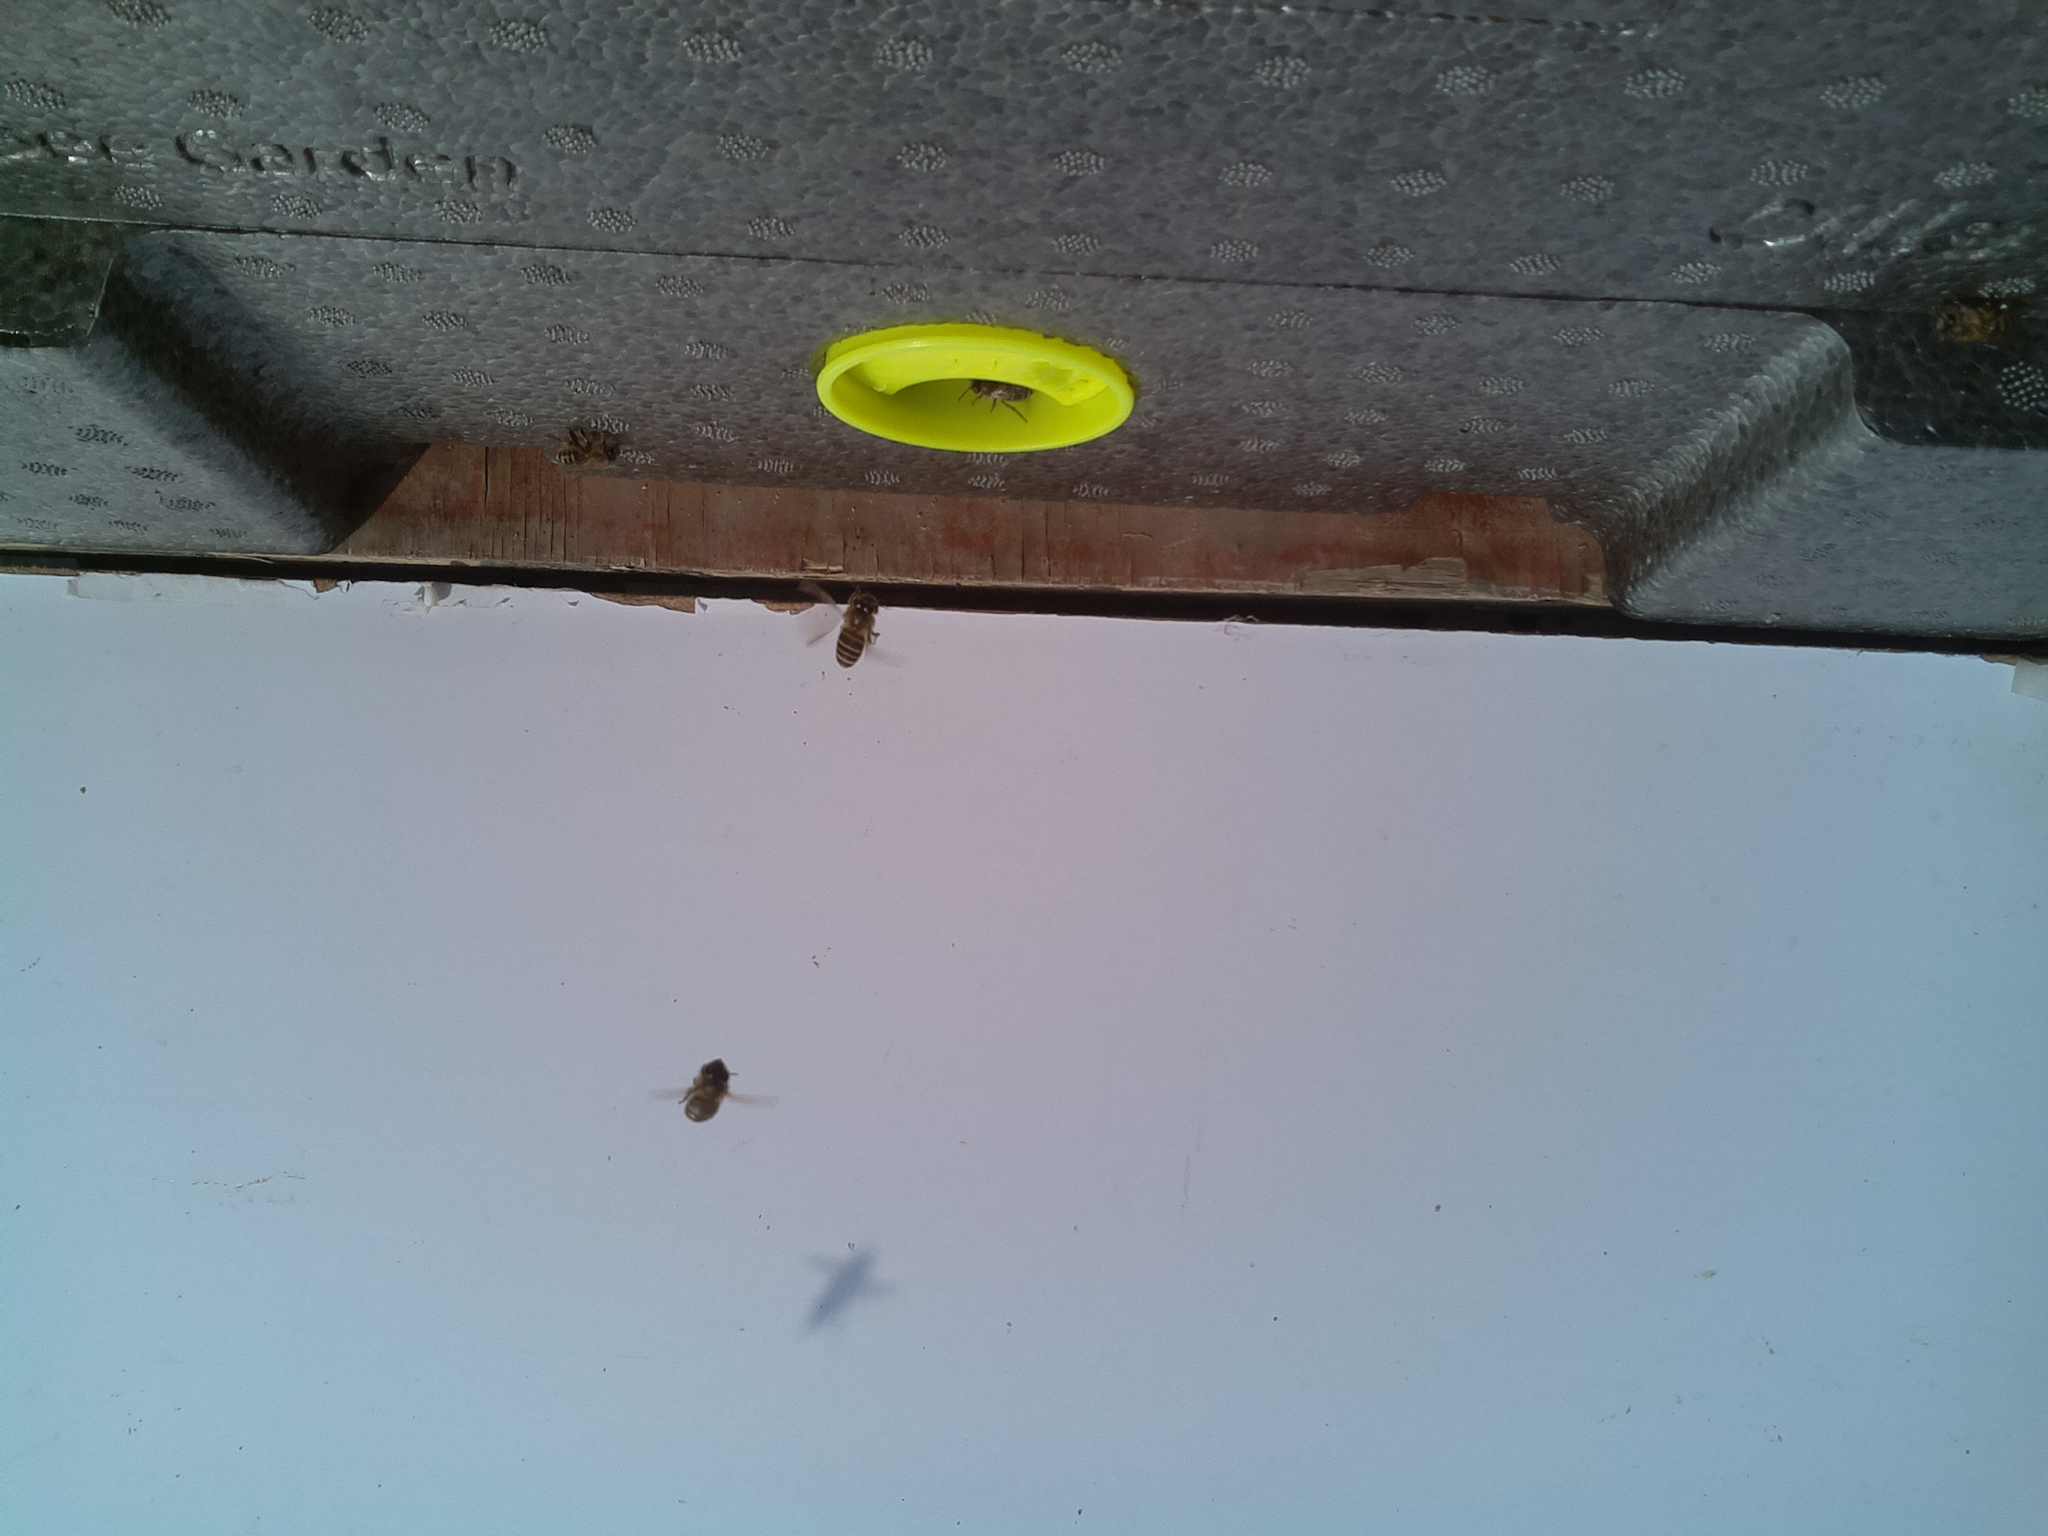bee: (810, 575, 893, 679), (671, 1052, 745, 1127), (967, 368, 1035, 425)
